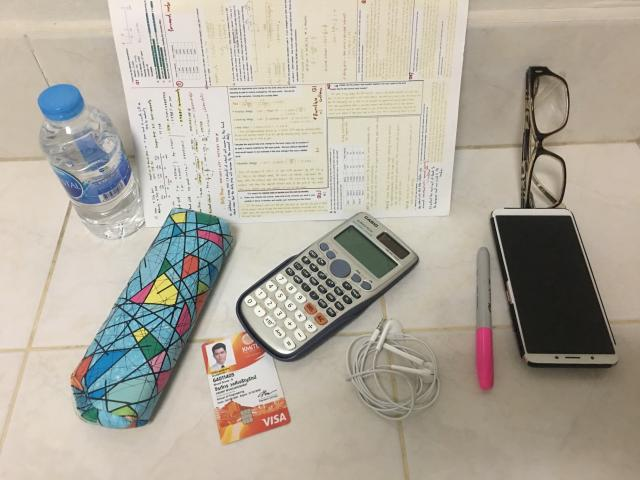Glasses: (521, 66, 570, 208)
Mobile phone: (491, 209, 618, 368)
Pen: (476, 248, 494, 390)
bottle: (38, 84, 144, 239)
paper: (109, 0, 469, 226)
wire: (346, 319, 440, 420)
